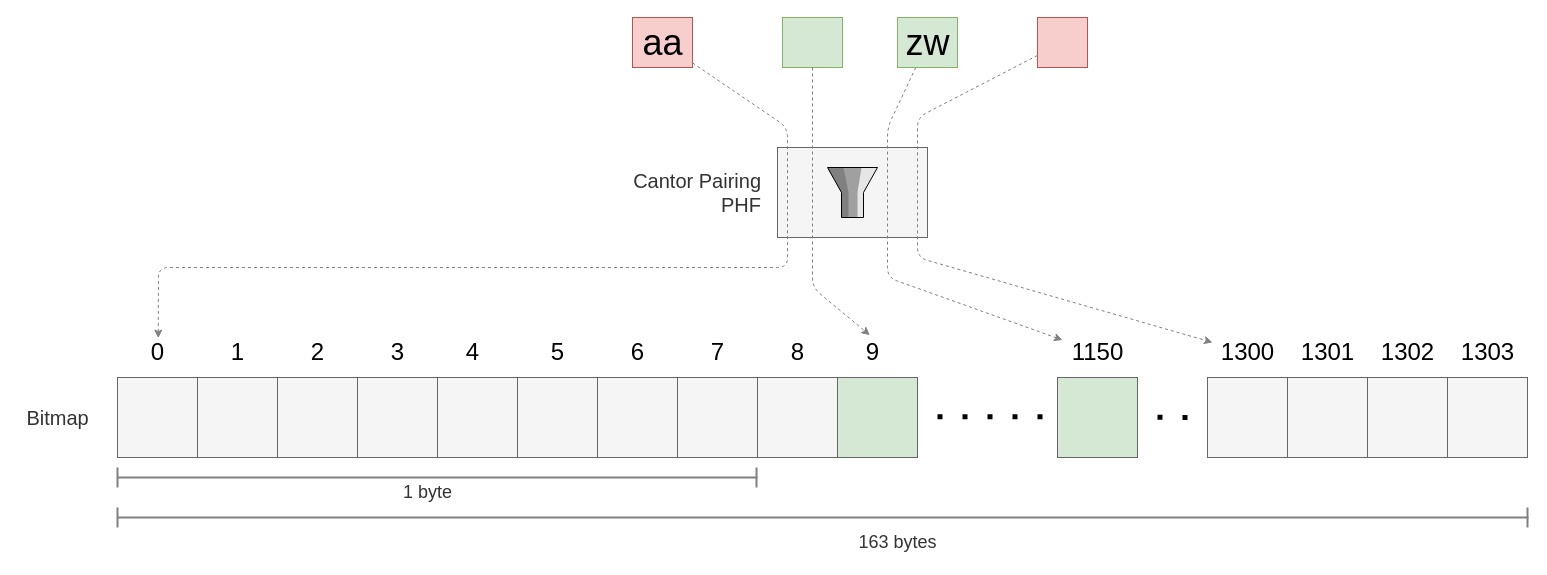
Some shapes in this 1547 by 575 pixel diagram are drawn without their labels. Here are the shapes that lost their labels. From the top down, the box of each, then its label:
(782, 16, 842, 68): ad
(1036, 16, 1088, 68): zz
